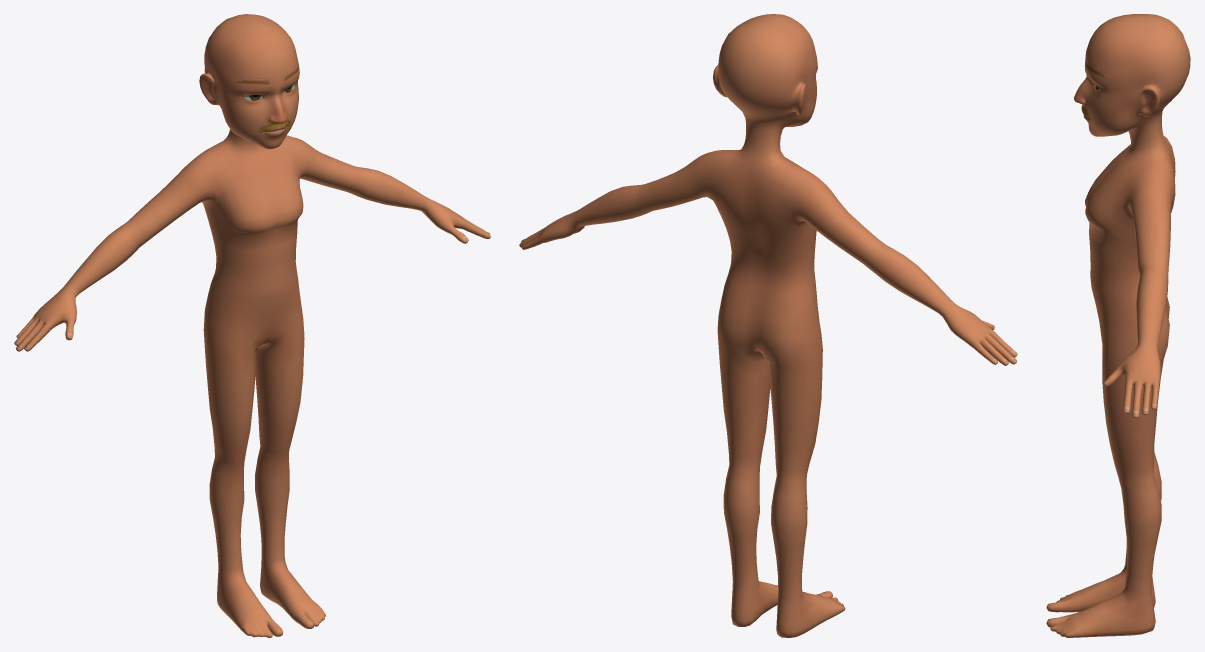
File: frame_0055.glb
3 views of the same model, side by side, from view 1: azimuth 30°, elevation 25°; view 2: azimuth 150°, elevation 25°; view 3: azimuth 270°, elevation 25° (orthographic). The views are drawn at different scales.
Visible parts, largest first — view 1: frame_0055_head_geo; view 2: frame_0055_head_geo; view 3: frame_0055_head_geo.
Part boxes in pixels (bbox=[...]): frame_0055_head_geo: bbox=[14, 14, 490, 637]; frame_0055_head_geo: bbox=[519, 14, 1017, 637]; frame_0055_head_geo: bbox=[1046, 14, 1190, 637].
Size of the model in its own units: 1.28 by 1.5 by 0.3253.
3 materials, 3 textured.
